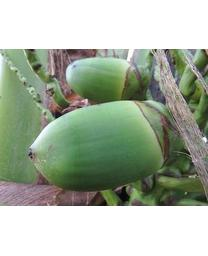coconut: (24, 100, 184, 193), (64, 57, 147, 99)
